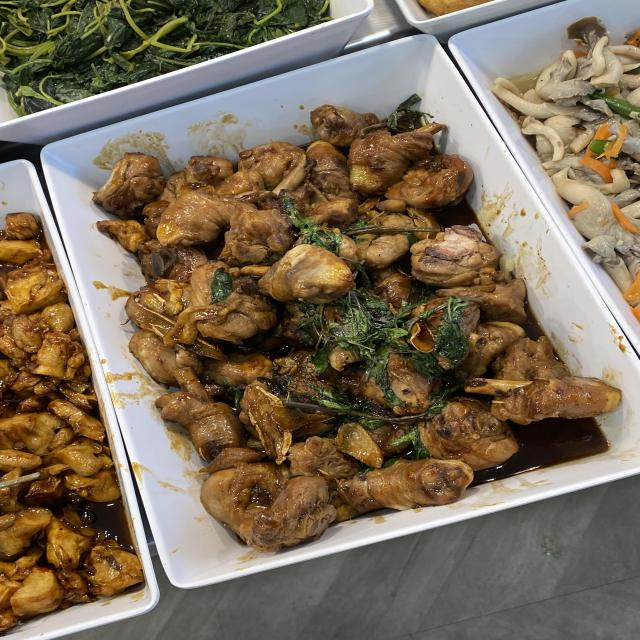three-cup chicken: (180, 182, 476, 441)
